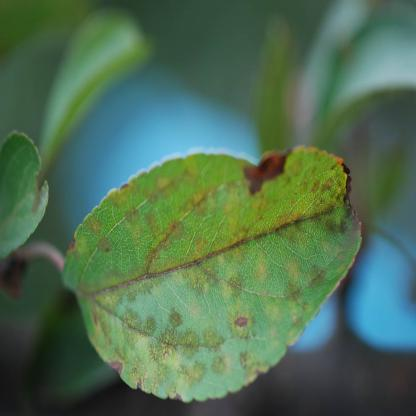apple scab leaf: (62, 132, 362, 416)
